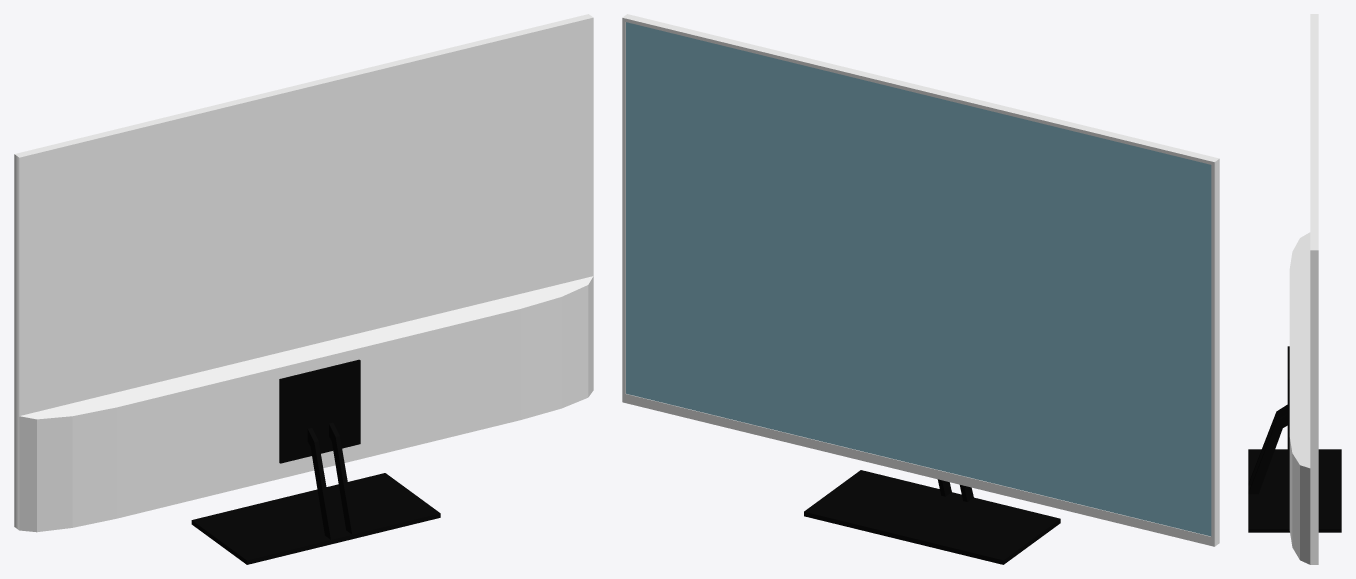
The model's file is monitor.fbx.
3 views of the same model, side by side, from view 1: azimuth 30°, elevation 25°; view 2: azimuth 150°, elevation 25°; view 3: azimuth 270°, elevation 25° (orthographic). The views are drawn at different scales.
Visible parts, largest first — view 1: Monitor; view 2: Monitor; view 3: Monitor.
Part boxes in pixels (box(x1,y1,x2,y2)): Monitor: box(14, 14, 593, 564); Monitor: box(622, 14, 1219, 564); Monitor: box(1248, 14, 1341, 564).
Size of the model in its own units: 162 by 115 by 26.98.
